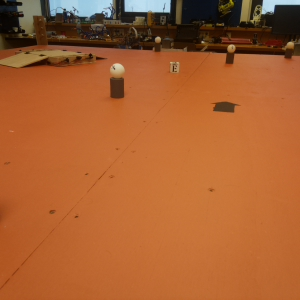blockE: (169, 63, 181, 75)
corner: (32, 15, 50, 45)
obstacle: (109, 61, 125, 99), (282, 41, 294, 60), (227, 44, 236, 65), (155, 37, 161, 51)
side: (50, 53, 95, 66)
slope: (1, 50, 50, 69), (96, 55, 108, 63)
start: (211, 101, 240, 116)
